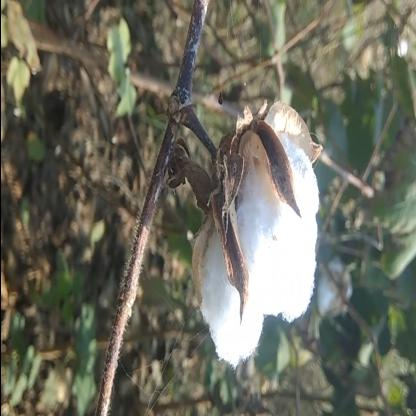cotton_ready: (140, 75, 338, 373)
